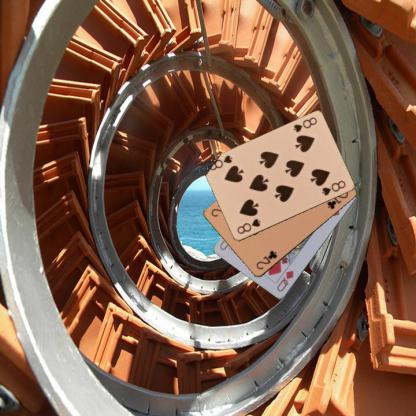2c: (254, 248, 278, 271)
8s: (234, 216, 262, 236), (291, 115, 318, 134)
Qd: (274, 268, 294, 293)
